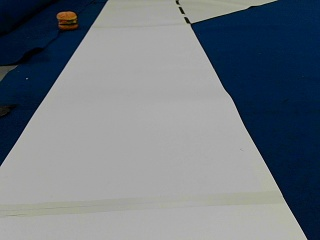burger: (56, 9, 78, 30)
